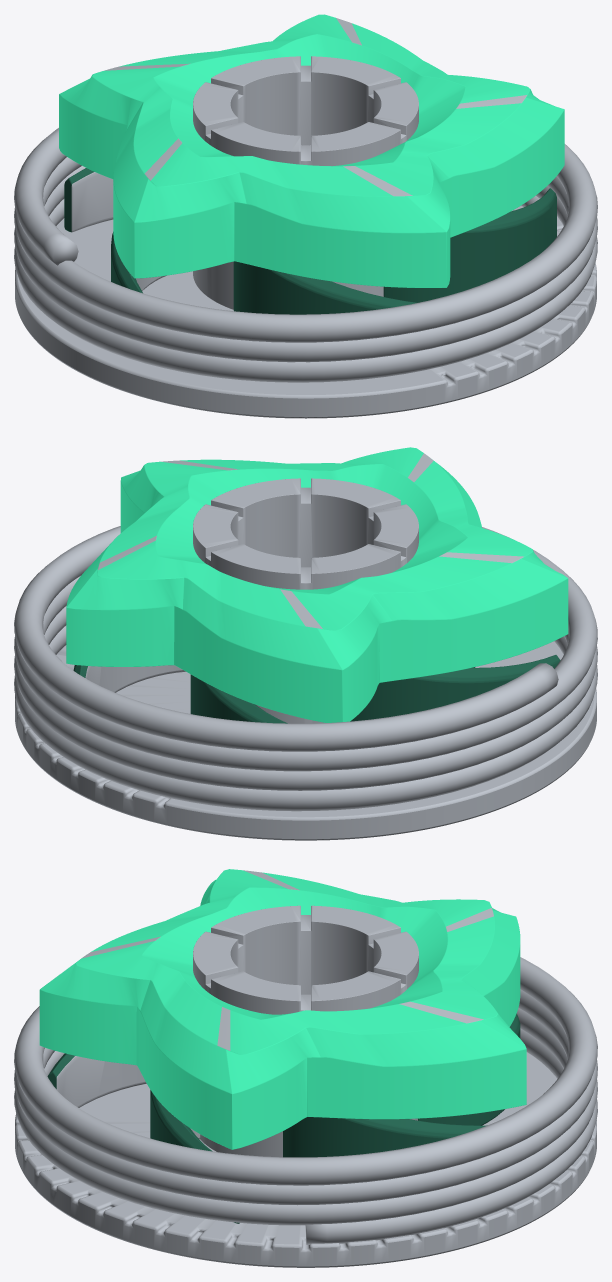
File: feder.glb
3 views of the same model, one above another, from view 1: azimuth 30°, elevation 25°; view 2: azimuth 150°, elevation 25°; view 3: azimuth 270°, elevation 25° (orthographic).
Parts seen in each view (by area): view 1: Ratsche.004, Feder.024, Grundplatte.003, Kern.004, Finne.004, Finne.003, Finne.001, Finne.002; view 2: Ratsche.004, Feder.024, Grundplatte.003, Kern.004, Finne.002, Finne.001, Finne; view 3: Ratsche.004, Feder.024, Grundplatte.003, Kern.004, Finne, Finne.003, Finne.004, Finne.001.
Part boxes in pixels (x1,y1,x2,y2): Ratsche.004: (59, 14, 564, 287); Feder.024: (14, 128, 597, 382); Grundplatte.003: (15, 205, 596, 418); Kern.004: (193, 56, 418, 309); Finne.004: (383, 188, 556, 302); Finne.003: (233, 261, 417, 314); Finne.001: (64, 168, 113, 232); Finne.002: (111, 232, 166, 293); Ratsche.004: (66, 447, 568, 722); Feder.024: (14, 526, 597, 811); Grundplatte.003: (15, 641, 596, 840); Kern.004: (193, 478, 418, 723); Finne.002: (350, 655, 560, 721); Finne.001: (190, 674, 287, 723); Finne: (73, 665, 185, 692); Ratsche.004: (39, 869, 526, 1149); Feder.024: (14, 957, 597, 1244); Grundplatte.003: (15, 1052, 596, 1267); Kern.004: (193, 905, 418, 1157); Finne: (283, 1117, 487, 1157); Finne.003: (47, 1053, 146, 1107); Finne.004: (150, 1090, 239, 1223); Finne.001: (418, 1013, 520, 1125).
Bounding box in the file's own units: 0.341 × 0.1247 × 0.341.
